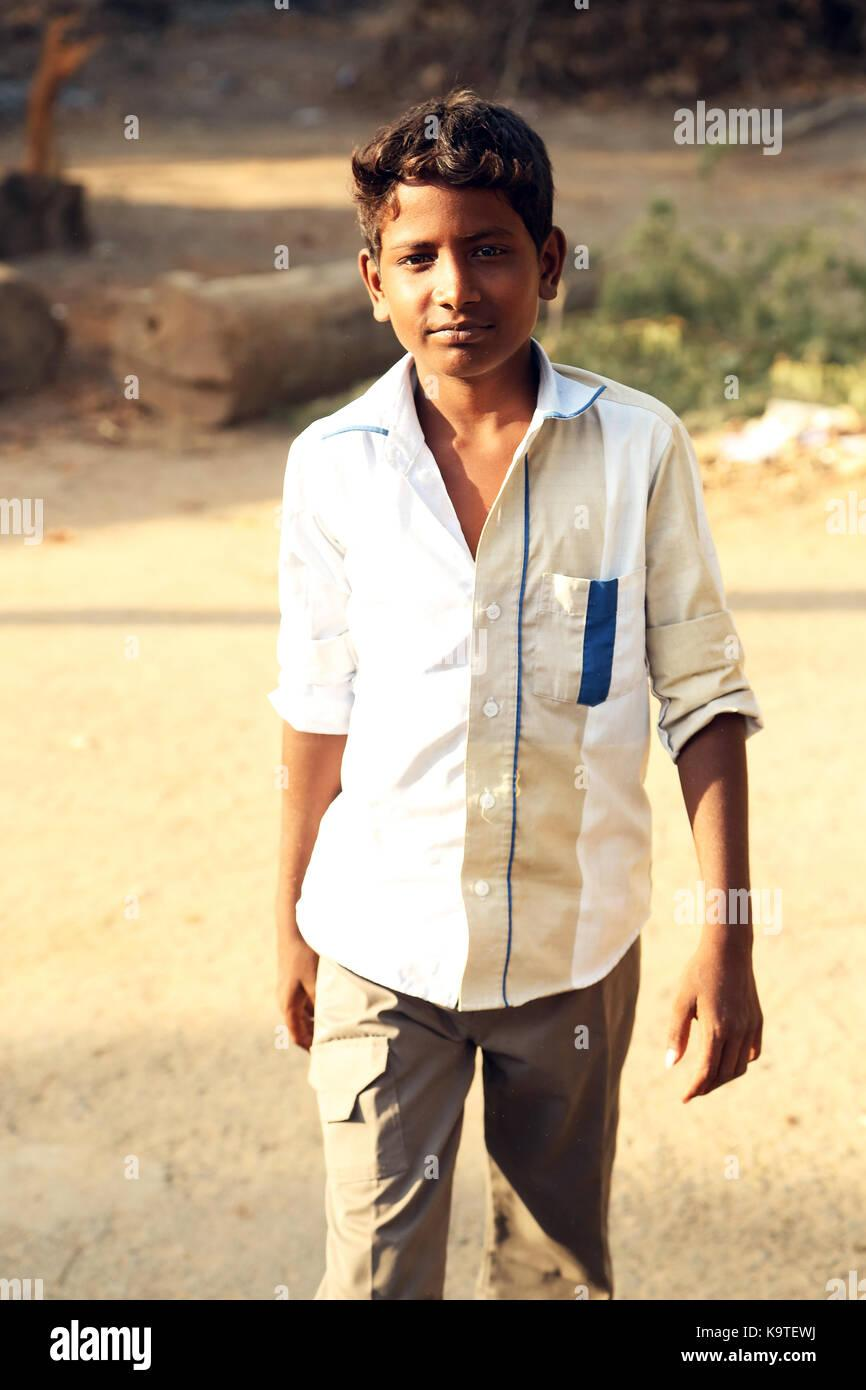Human: (192, 82, 789, 1326)
